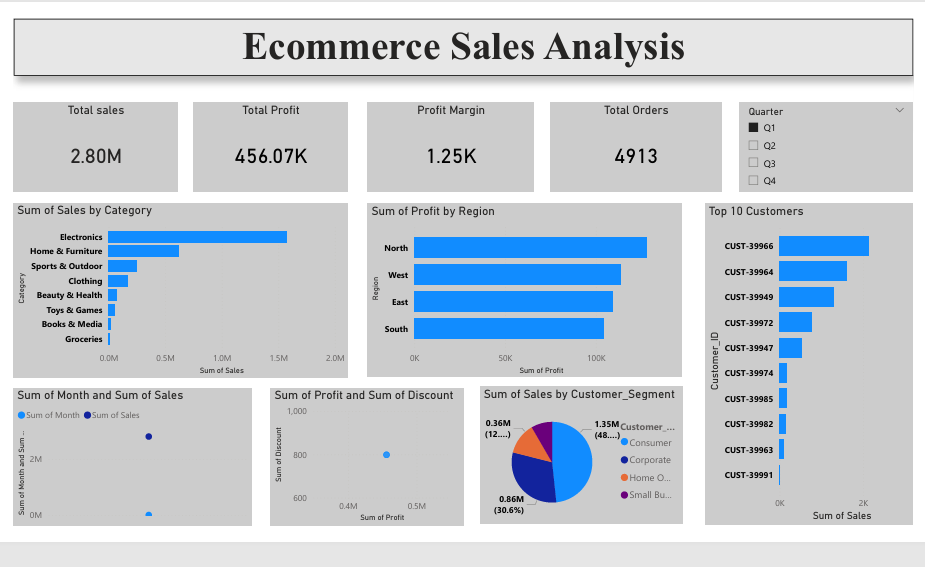

The dashboard page shown, as its layout file describes it:
{"tool":"powerbi","page":{"name":"Page 1","canvas":[1280,720],"ordinal":0},"visuals":[{"type":"card","title":"Total sales","fields":{"Values":["Sum(cleaned_ecommerce_sales.Sales)"]},"box":[0,119,233.6,127.8],"z":0},{"type":"card","title":"Total Profit","fields":{"Values":["Sum(cleaned_ecommerce_sales.Profit)"]},"box":[255.7,119,220.4,127.8],"z":1000},{"type":"card","title":"Profit Margin","fields":{"Values":["Sum(cleaned_ecommerce_sales.Profit_Margin)"]},"box":[504,119,236.6,127.8],"z":2000},{"type":"card","title":"Total Orders","fields":{"Values":["cleaned_ecommerce_sales.Total Orders"]},"box":[764.1,119,243.9,127.8],"z":3000},{"type":"barChart","fields":{"Category":["cleaned_ecommerce_sales.Category"],"Y":["Sum(cleaned_ecommerce_sales.Sales)"]},"box":[0,261.6,476.1,248.3],"z":4000},{"type":"clusteredBarChart","fields":{"Category":["cleaned_ecommerce_sales.Region"],"Y":["Sum(cleaned_ecommerce_sales.Profit)"]},"box":[504,263,446.7,246.9],"z":5000},{"type":"lineChart","fields":{"Y":["Sum(cleaned_ecommerce_sales.Month)","Sum(cleaned_ecommerce_sales.Sales)"]},"box":[0,524.6,339.4,195.4],"z":6000},{"type":"pieChart","fields":{"Category":["cleaned_ecommerce_sales.Customer_Segment"],"Y":["Sum(cleaned_ecommerce_sales.Sales)"]},"box":[664.2,523.1,288,195.4],"z":7000},{"type":"scatterChart","fields":{"X":["Sum(cleaned_ecommerce_sales.Profit)"],"Y":["Sum(cleaned_ecommerce_sales.Discount)"]},"box":[365.9,524.6,274.8,195.4],"z":8000},{"type":"clusteredBarChart","title":"Top 10 Customers","fields":{"Category":["cleaned_ecommerce_sales.Customer_ID"],"Y":["Sum(cleaned_ecommerce_sales.Sales)"]},"box":[984.5,263,295.3,457],"z":9000},{"type":"slicer","fields":{"Values":["cleaned_ecommerce_sales.Quarter"]},"box":[1033,119,246.9,127.8],"z":10000},{"type":"textbox","box":[0,0,1279.8,80.8],"z":11000}]}

Visuals, with their boxes in screenshot pixels (x1, y1, x2, y2):
"Total sales" card: 5 99 171 190
"Total Profit" card: 187 99 344 190
"Profit Margin" card: 364 99 533 190
"Total Orders" card: 549 99 723 190
barChart - cleaned_ecommerce_sales.Category x Sum(cleaned_ecommerce_sales.Sales): 5 201 344 378
clusteredBarChart - cleaned_ecommerce_sales.Region x Sum(cleaned_ecommerce_sales.Profit): 364 202 682 378
lineChart - Sum(cleaned_ecommerce_sales.Month) x Sum(cleaned_ecommerce_sales.Sales): 5 388 247 528
pieChart - cleaned_ecommerce_sales.Customer_Segment x Sum(cleaned_ecommerce_sales.Sales): 478 387 683 527
scatterChart - Sum(cleaned_ecommerce_sales.Profit) x Sum(cleaned_ecommerce_sales.Discount): 266 388 461 528
"Top 10 Customers" clusteredBarChart: 706 202 917 528
slicer - cleaned_ecommerce_sales.Quarter: 741 99 917 190
textbox: 5 14 917 72
